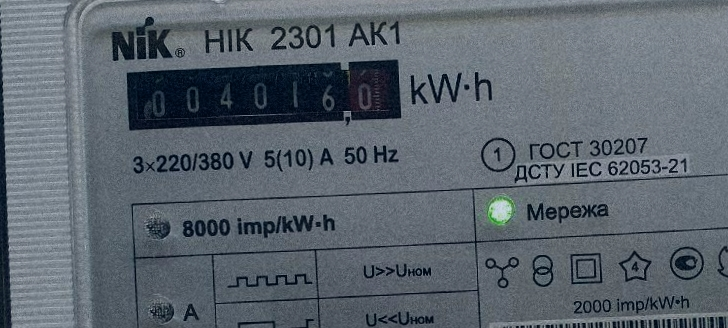0: (249, 77, 271, 112), (147, 85, 169, 119), (182, 81, 202, 115), (353, 79, 374, 111)
1: (287, 75, 303, 109)
4: (216, 77, 235, 111)
6: (317, 79, 337, 111)
screen: (118, 52, 409, 137)
